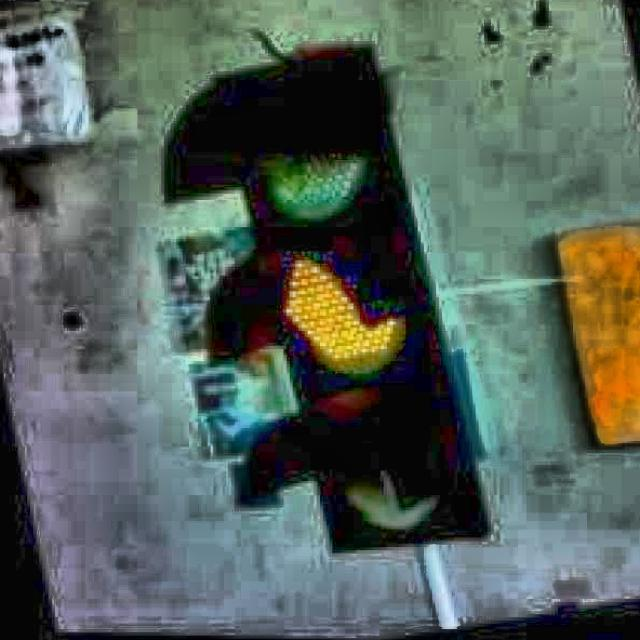yellow: (220, 55, 462, 559)
